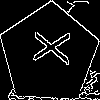X: (24, 29, 71, 65)
